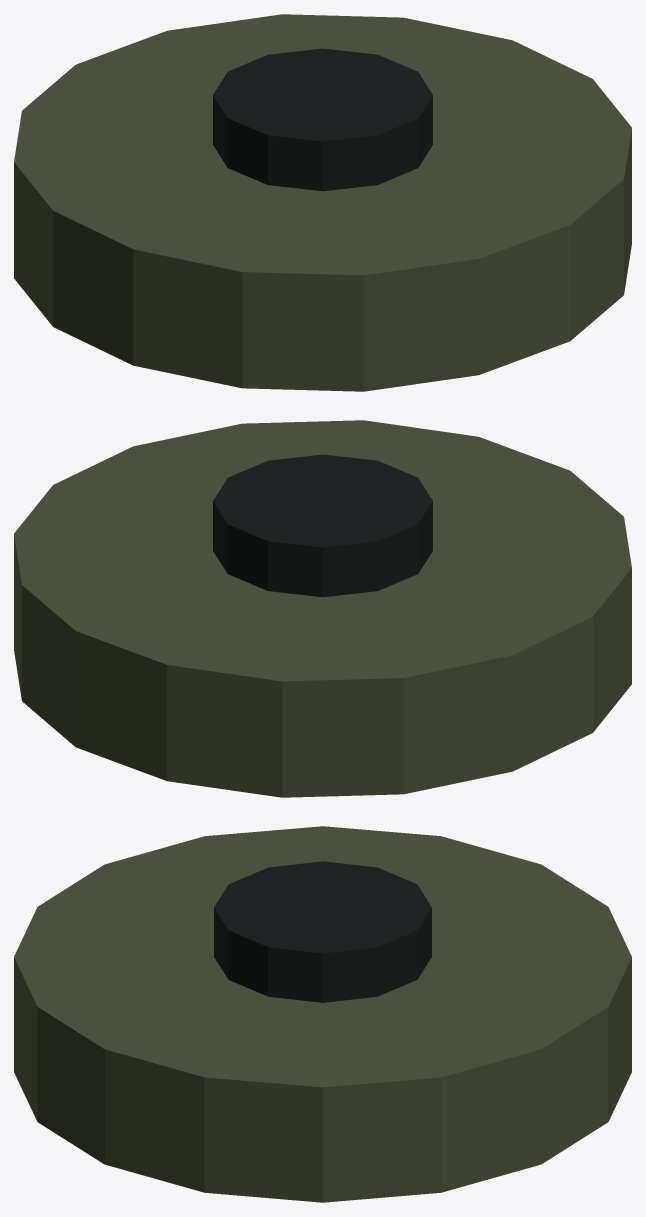
Rendered from Landmine.obj.
3 views of the same model, one above another, from view 1: azimuth 30°, elevation 25°; view 2: azimuth 150°, elevation 25°; view 3: azimuth 270°, elevation 25° (orthographic).
Parts seen in each view (by area): view 1: Landmine_Body, Landmine_Cap; view 2: Landmine_Body, Landmine_Cap; view 3: Landmine_Body, Landmine_Cap.
Part boxes in pixels (<box>): Landmine_Body: <box>14,14,631,391</box>; Landmine_Cap: <box>213,48,432,191</box>; Landmine_Body: <box>14,420,631,797</box>; Landmine_Cap: <box>213,454,432,597</box>; Landmine_Body: <box>14,826,631,1202</box>; Landmine_Cap: <box>214,861,431,1002</box>.
Size of the model in its own units: 0.34 by 0.1 by 0.34.
